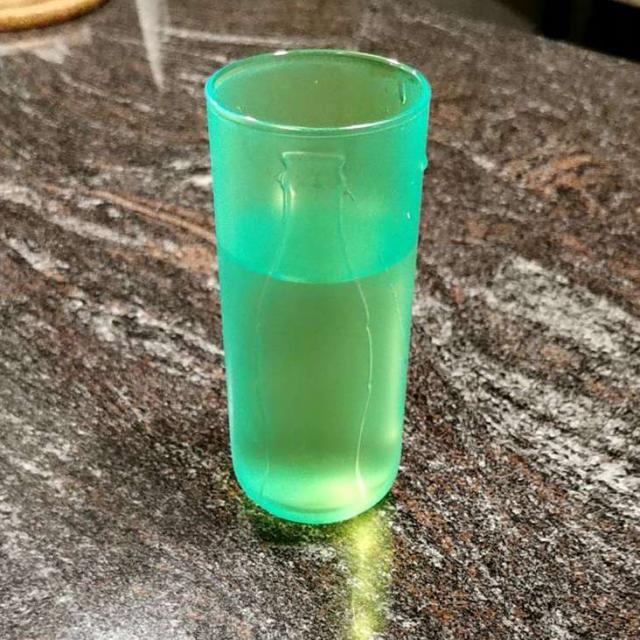water: (210, 67, 427, 505)
